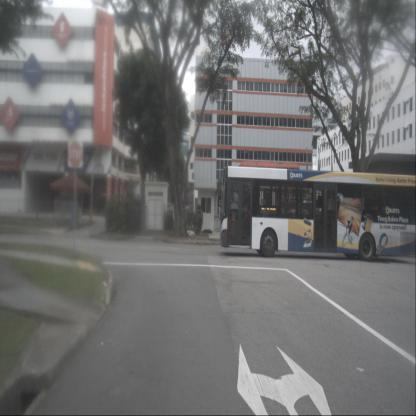movable_object-trafficcone: (89, 210, 93, 223)
vehicle-bus-rigid: (220, 163, 415, 264)
